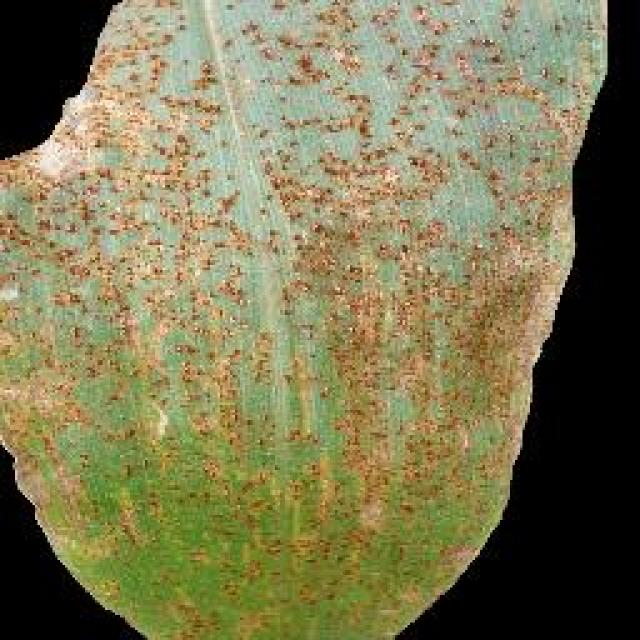Corn Common Rust: (100, 142, 563, 612)
